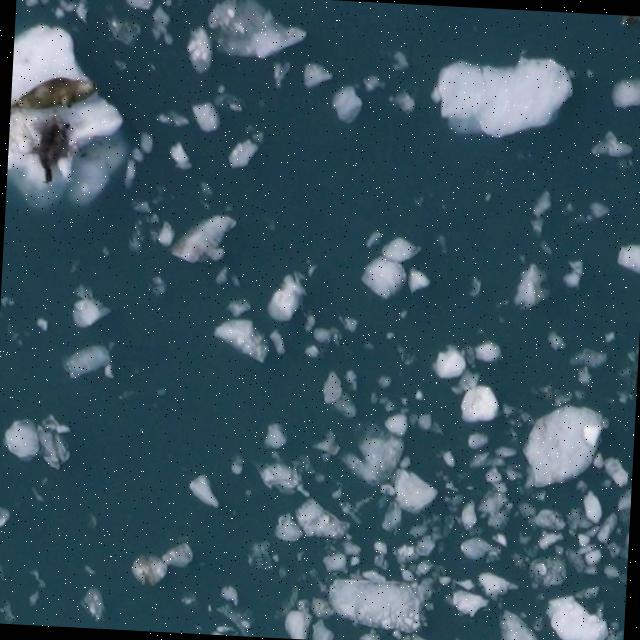seal: (12, 76, 96, 111), (35, 118, 68, 182)
